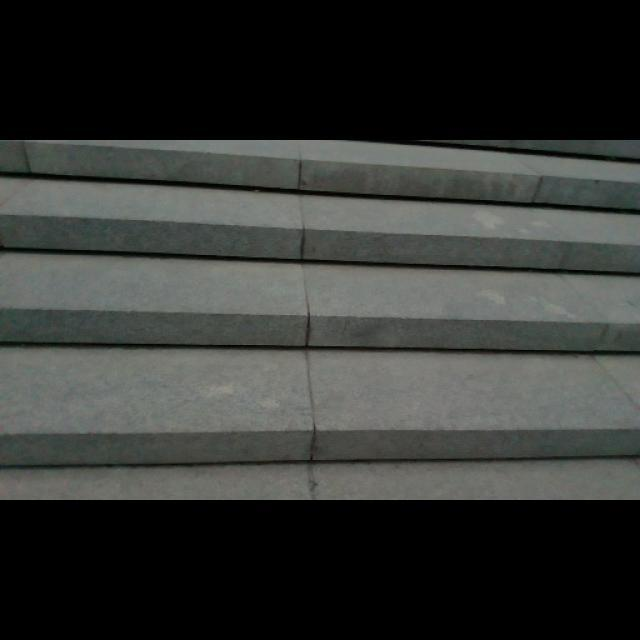stair: (8, 139, 640, 491)
